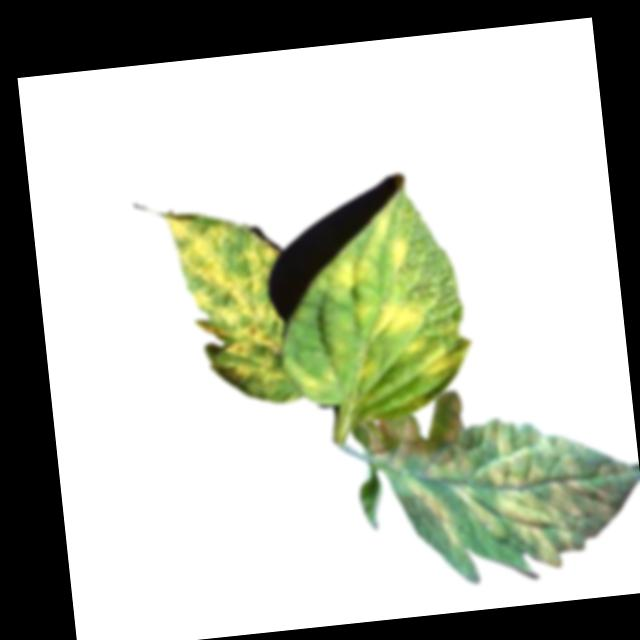Leaf_Mold: (371, 390, 640, 596), (161, 203, 289, 421), (347, 293, 427, 340), (405, 333, 475, 378), (291, 354, 339, 401), (323, 253, 373, 294), (384, 230, 412, 273)
